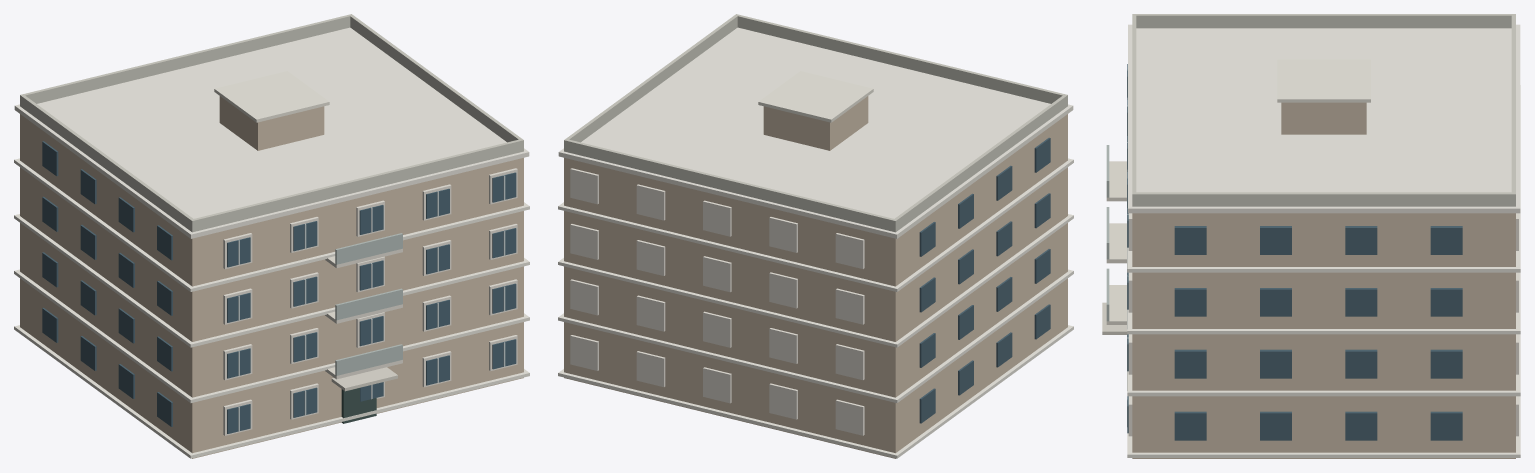
3 views of the same model, side by side, from view 1: azimuth 30°, elevation 25°; view 2: azimuth 150°, elevation 25°; view 3: azimuth 270°, elevation 25° (orthographic). The views are drawn at different scales.
Size of the model in its own units: 20.44 by 14.98 by 19.62.
